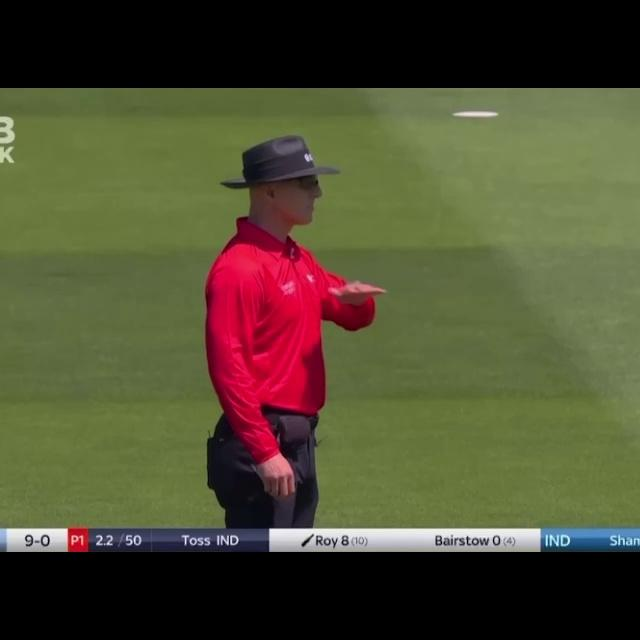umpire: (188, 117, 382, 530)
